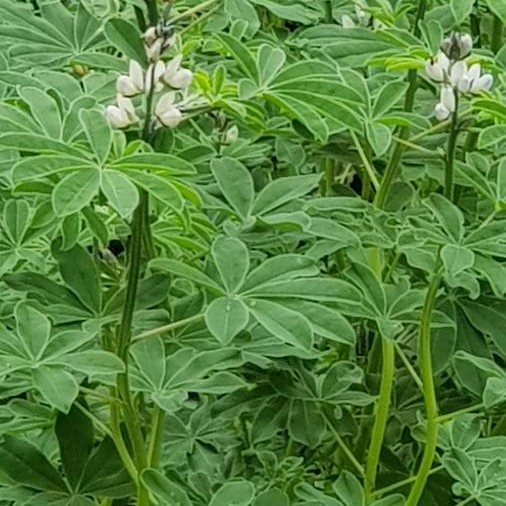obstacle: (32, 82, 465, 484)
